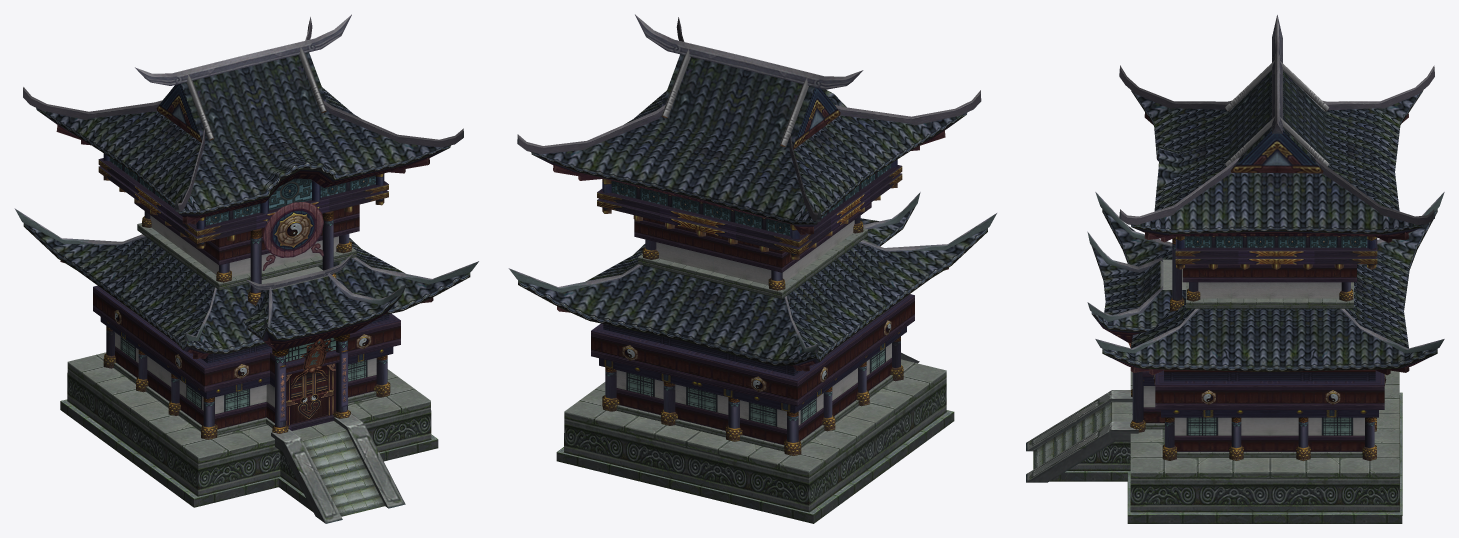
Rendered from QYS_Town_A_01_02_LOD0.FBX.
3 views of the same model, side by side, from view 1: azimuth 30°, elevation 25°; view 2: azimuth 150°, elevation 25°; view 3: azimuth 270°, elevation 25° (orthographic). The views are drawn at different scales.
Parts seen in each view (by area): view 1: QYS_Town_A_01_02_Lod0; view 2: QYS_Town_A_01_02_Lod0; view 3: QYS_Town_A_01_02_Lod0.
Part boxes in pixels (x1,y1,x2,y2): QYS_Town_A_01_02_Lod0: [14, 14, 478, 523]; QYS_Town_A_01_02_Lod0: [508, 14, 996, 523]; QYS_Town_A_01_02_Lod0: [1026, 15, 1444, 523].
Bounding box in the file's own units: 1481 × 1844 × 1776.
